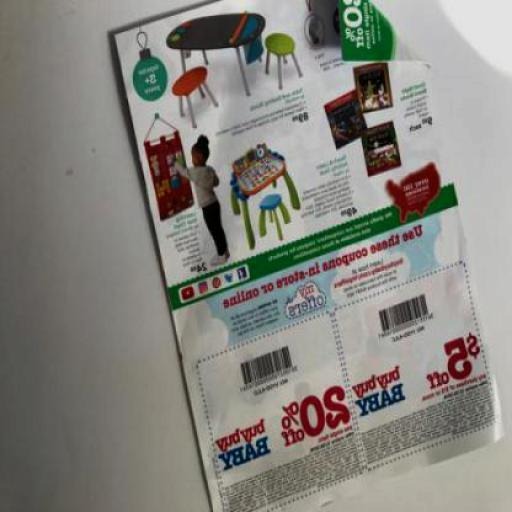paper: (116, 0, 506, 511)
